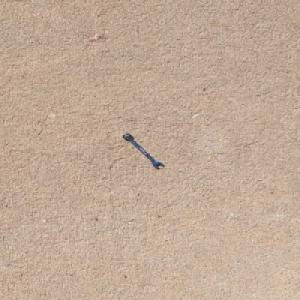Wrench: (121, 133, 164, 168)
